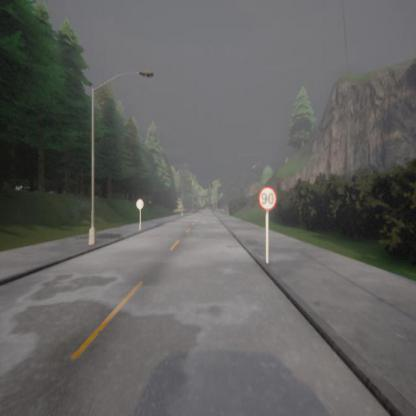traffic_sign_90: (259, 188, 276, 210)
